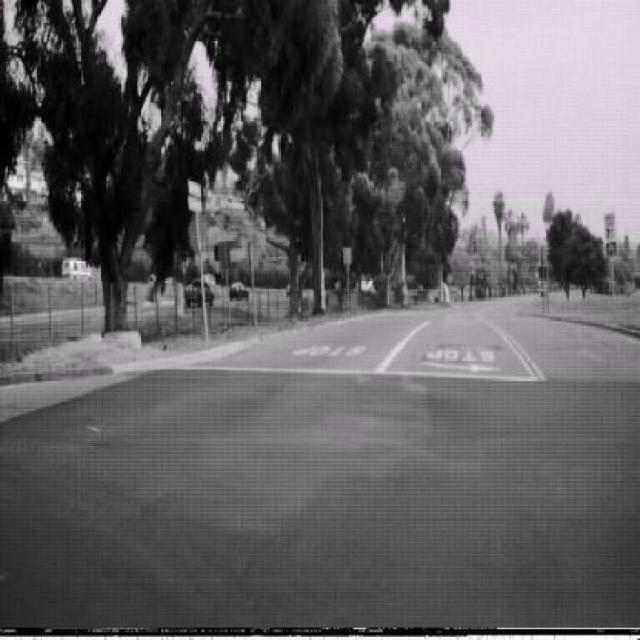speedLimit30: (603, 209, 617, 241)
